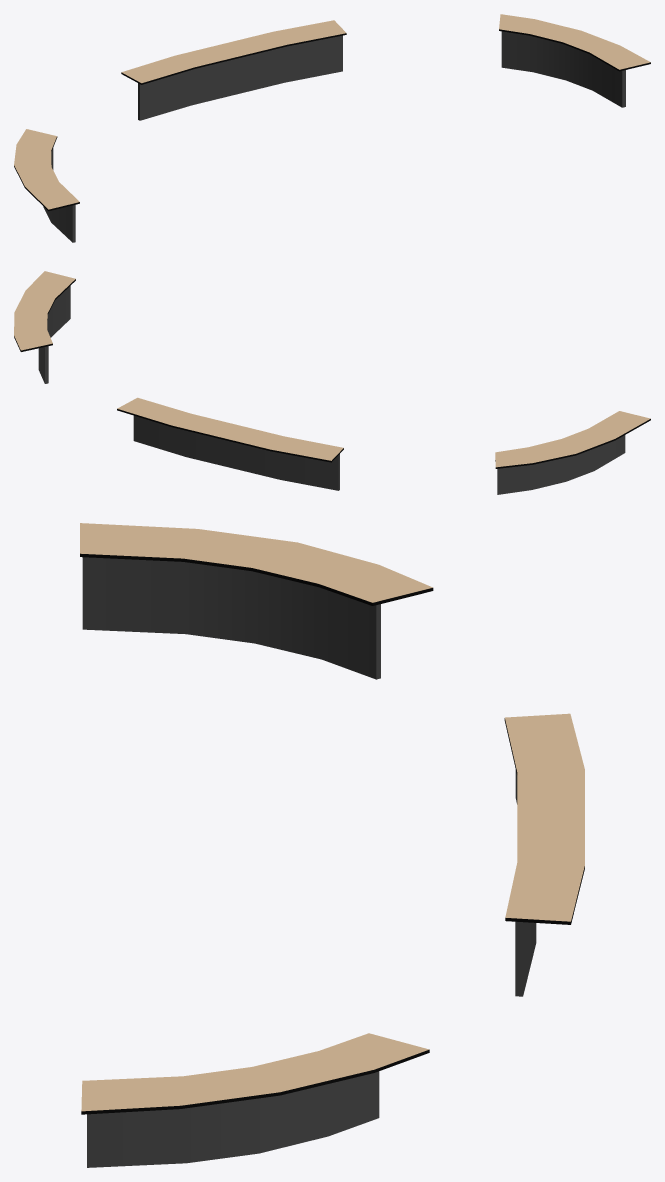
Rendered from Tables 1.FBX.
3 views of the same model, one above another, from view 1: azimuth 30°, elevation 25°; view 2: azimuth 150°, elevation 25°; view 3: azimuth 270°, elevation 25° (orthographic). The views are drawn at different scales.
Parts seen in each view (by area): view 1: Tables 1; view 2: Tables 1; view 3: Tables 1.
Boxes of the visible parts, x1=… form: Tables 1: x1=14, y1=14, x2=650, y2=242; Tables 1: x1=14, y1=271, x2=650, y2=494; Tables 1: x1=80, y1=523, x2=584, y2=1167.
Bounding box in the file's own units: 1070 × 67.51 × 388.
